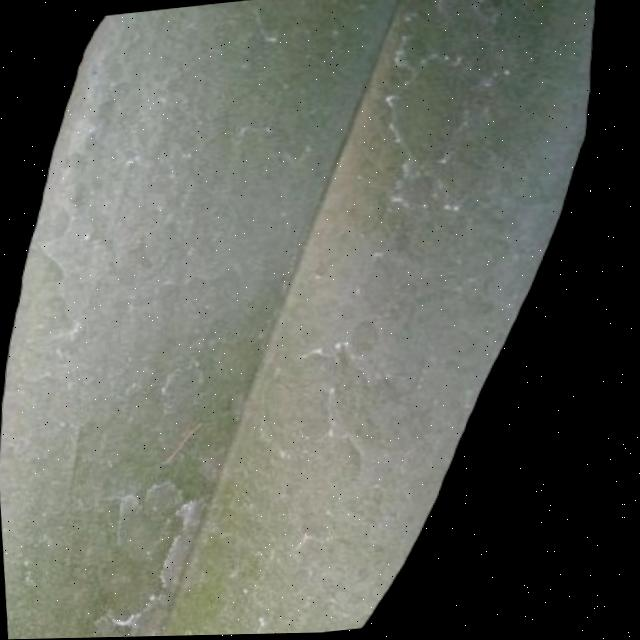mite: (59, 352, 246, 638), (84, 463, 218, 632), (109, 474, 193, 561), (155, 356, 212, 418), (159, 449, 217, 504), (432, 0, 503, 36), (226, 545, 273, 592), (142, 474, 187, 523), (347, 316, 384, 359)
